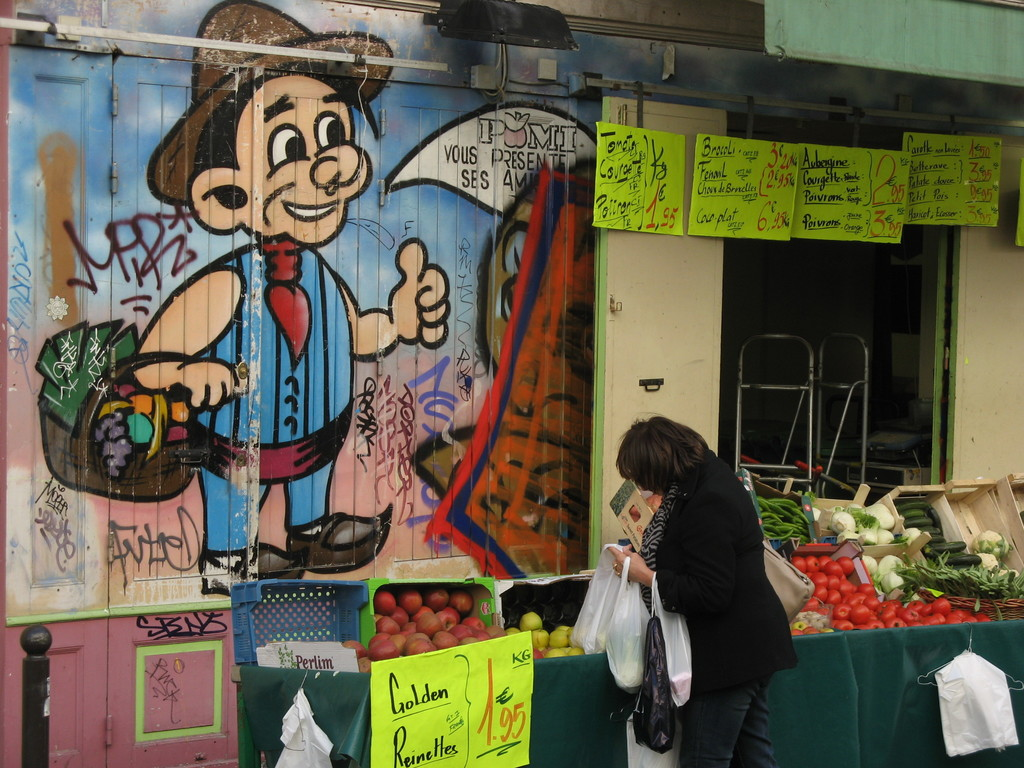Apple: (342, 590, 505, 669), (505, 613, 586, 656), (417, 612, 442, 636)
